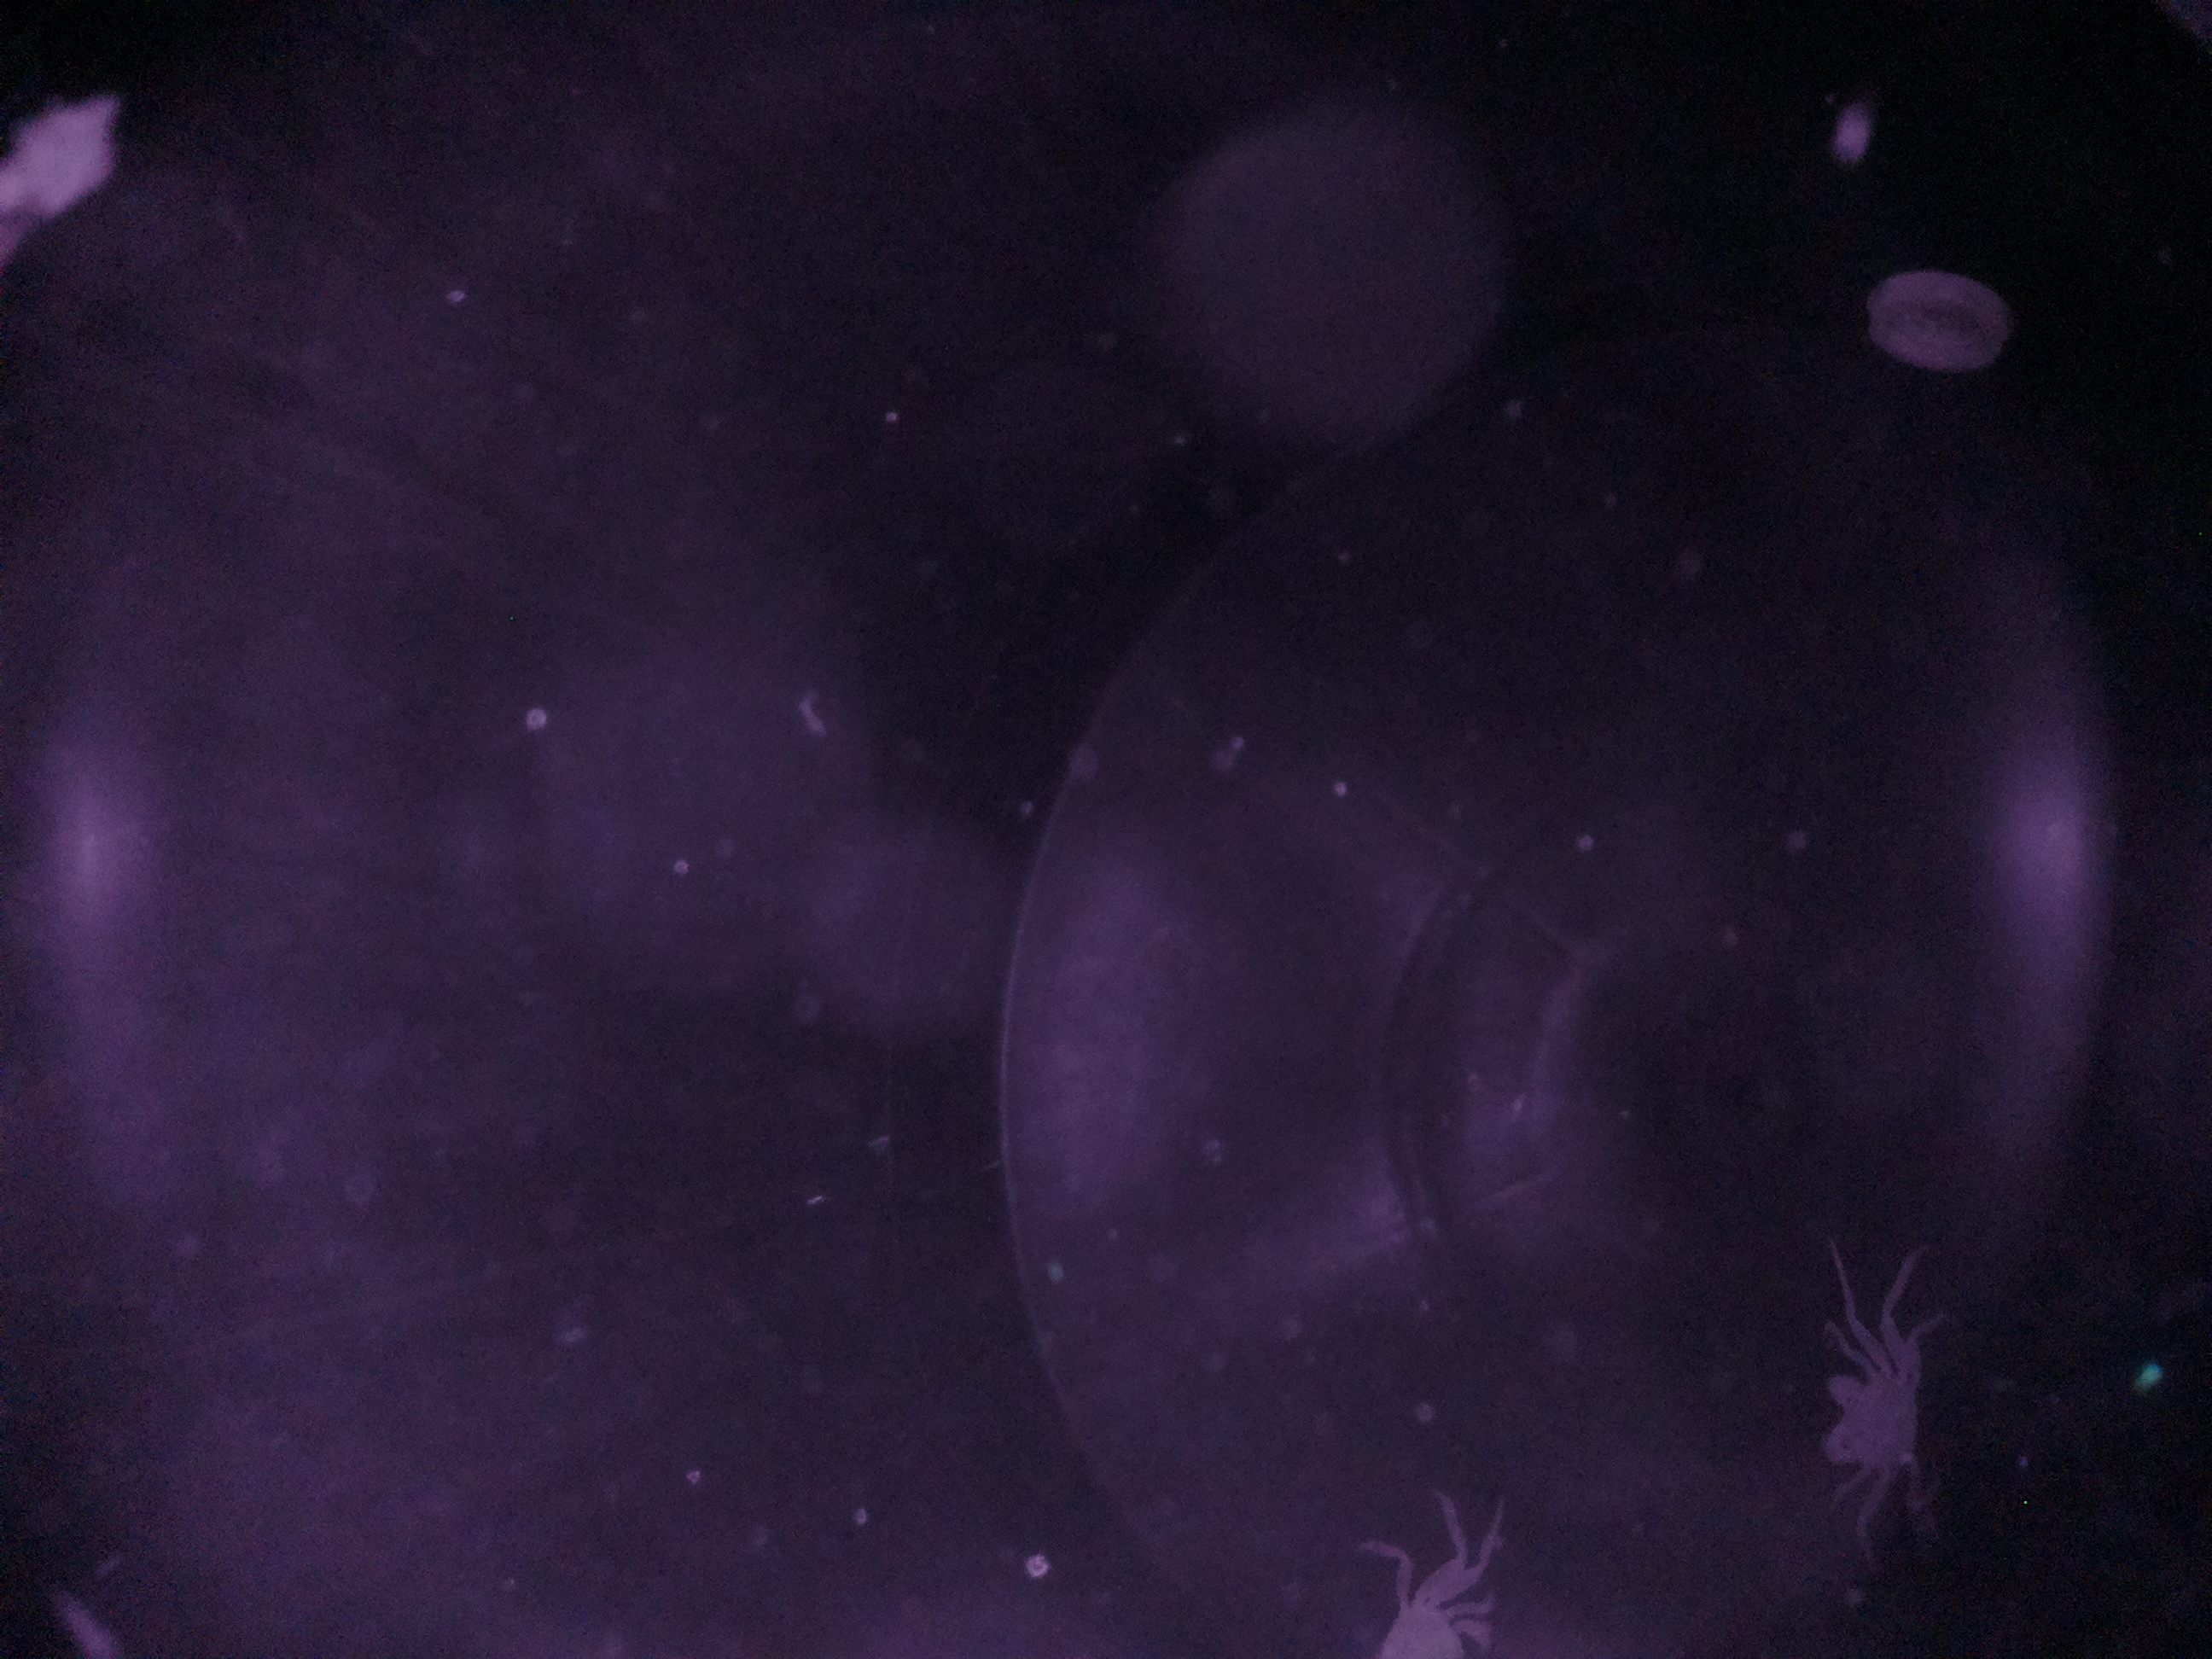Crab: (1782, 1314, 1958, 1500)
